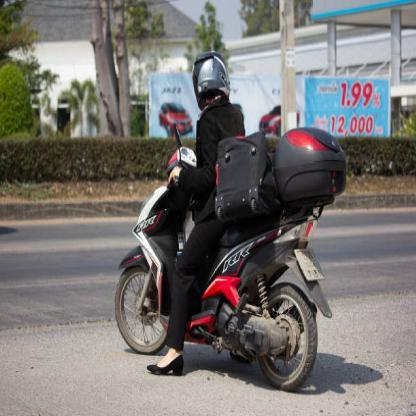Motorcycle: (108, 126, 330, 383)
